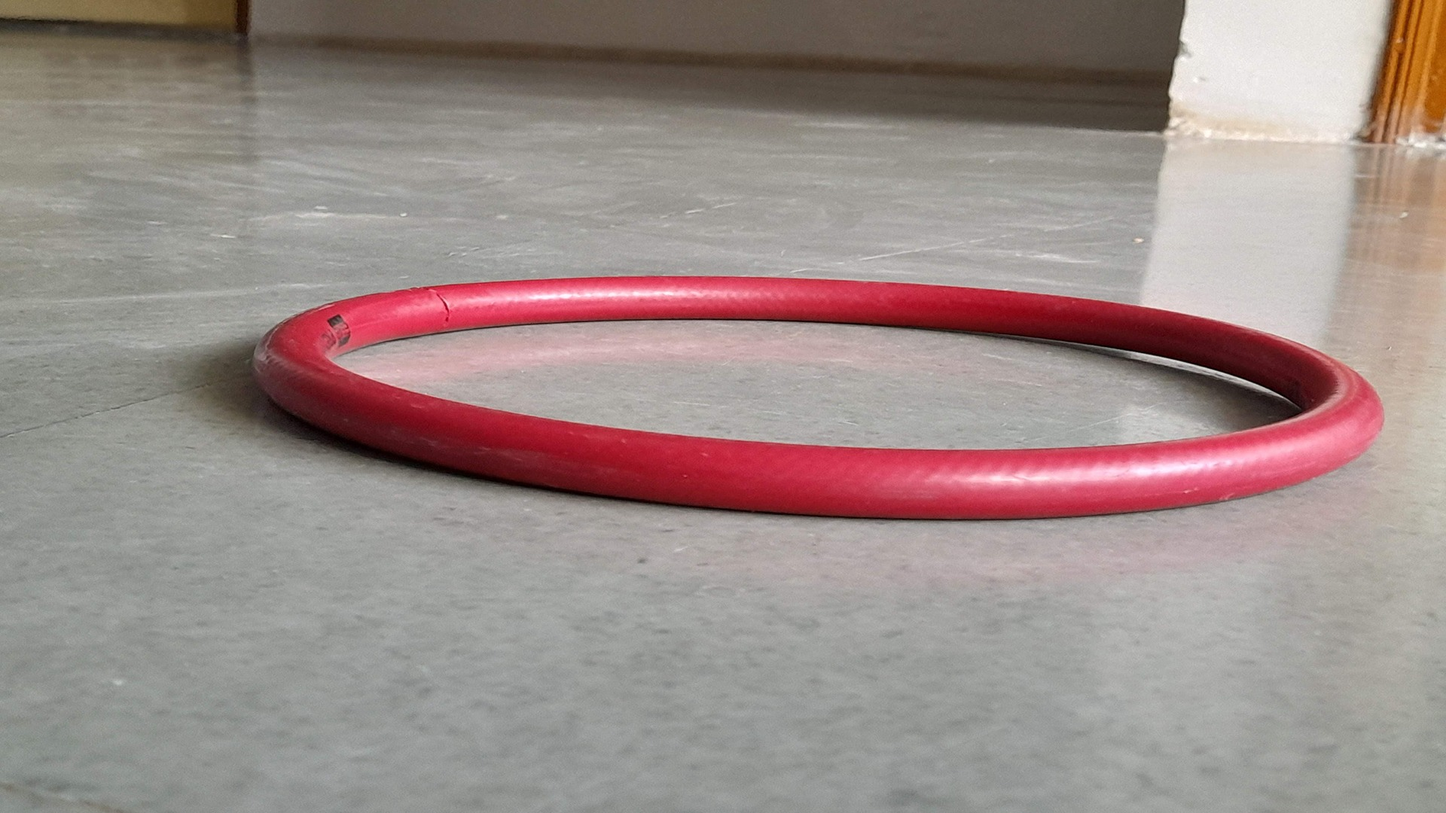Red ring: (251, 278, 1383, 516)
